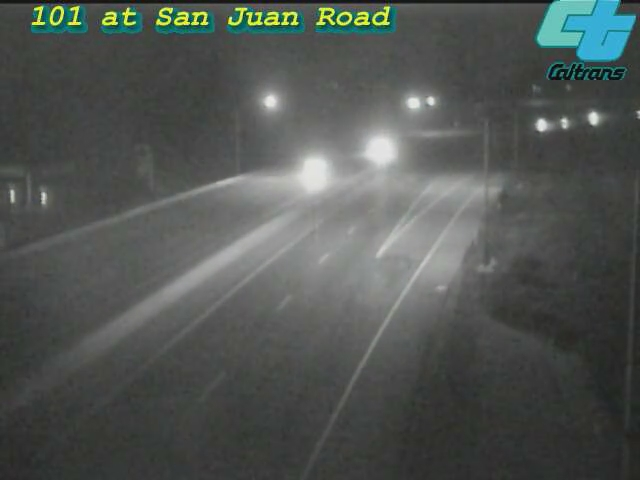vehicle: (274, 128, 354, 208), (350, 124, 400, 174), (571, 95, 621, 145), (539, 98, 589, 148), (516, 100, 566, 150)
